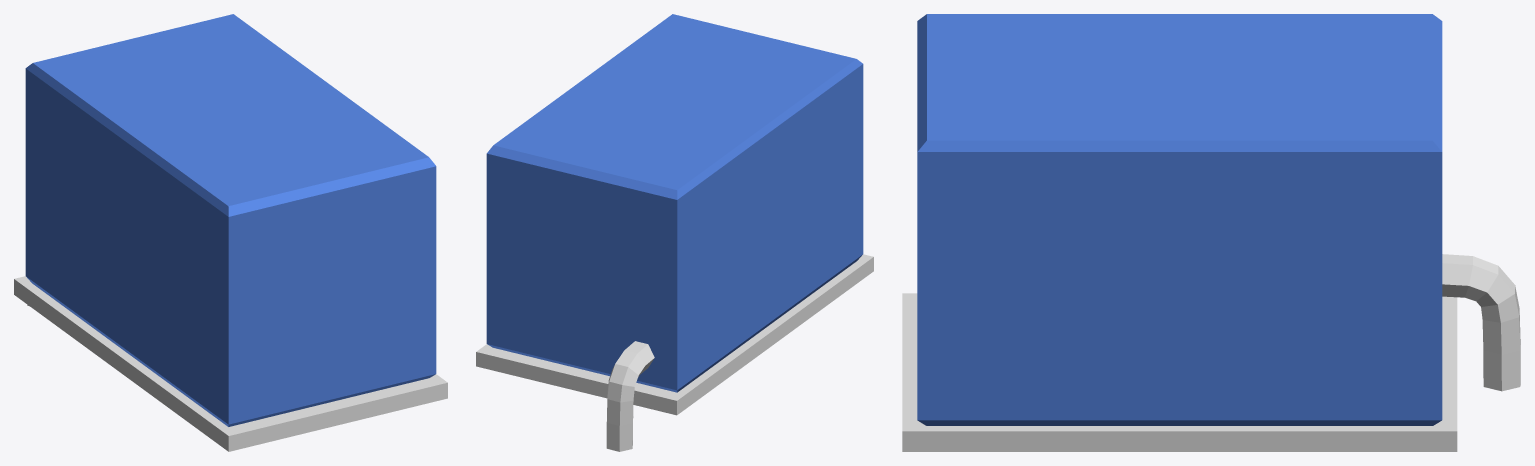
The model's file is ContainerBox.glb.
3 views of the same model, side by side, from view 1: azimuth 30°, elevation 25°; view 2: azimuth 150°, elevation 25°; view 3: azimuth 270°, elevation 25° (orthographic). The views are drawn at different scales.
Parts seen in each view (by area): view 1: Cube.035; view 2: Cube.035; view 3: Cube.035.
Part boxes in pixels (x1,y1,x2,y2): Cube.035: [14, 14, 447, 451]; Cube.035: [476, 14, 873, 451]; Cube.035: [902, 14, 1520, 451].
Size of the model in its own units: 1.87 by 2.18 by 3.53.
